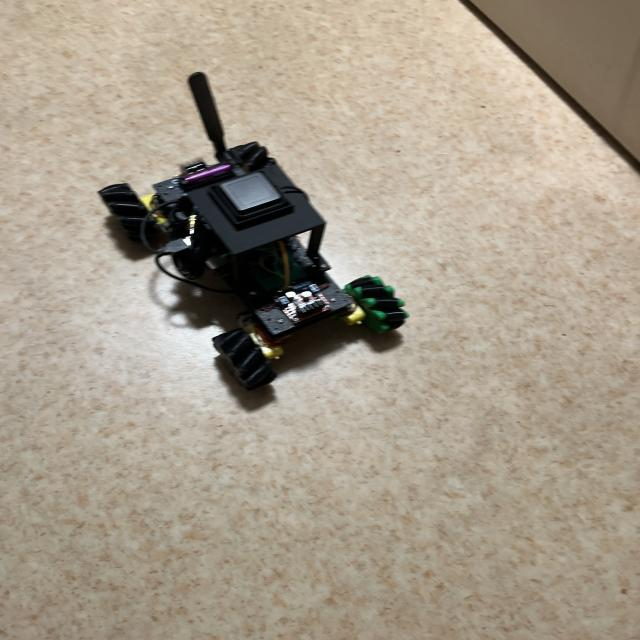robot: (99, 72, 408, 389)
